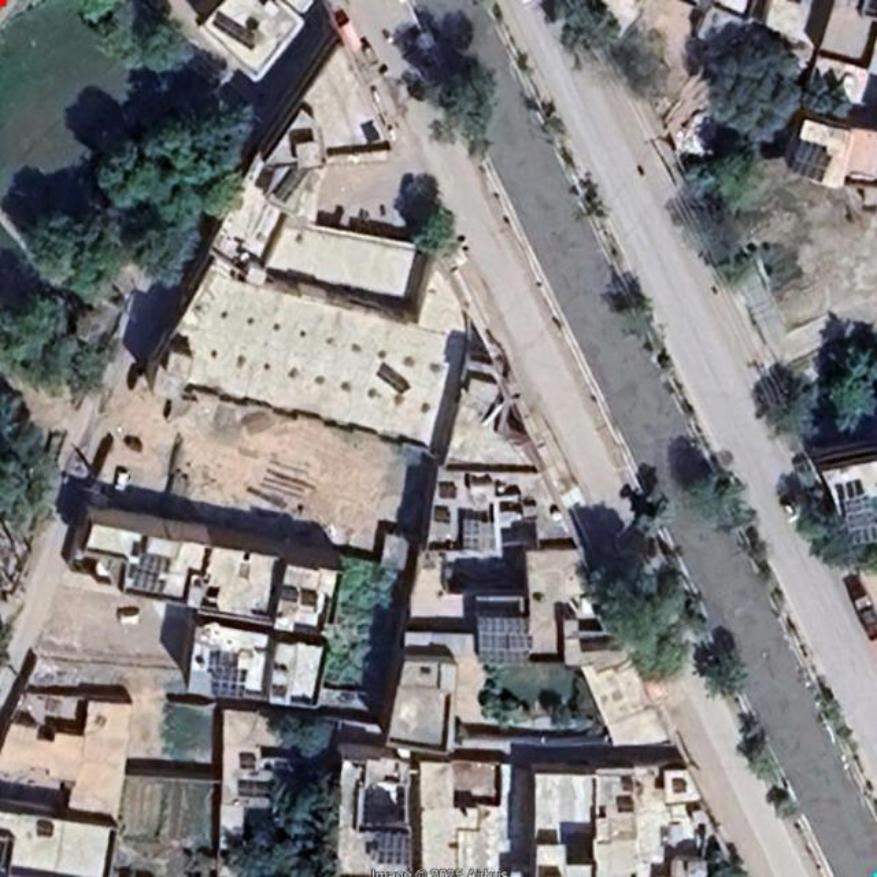Solarpanel: (478, 616, 530, 667), (792, 143, 833, 183), (842, 497, 876, 544), (211, 664, 246, 703), (378, 832, 409, 866), (463, 521, 482, 548)
